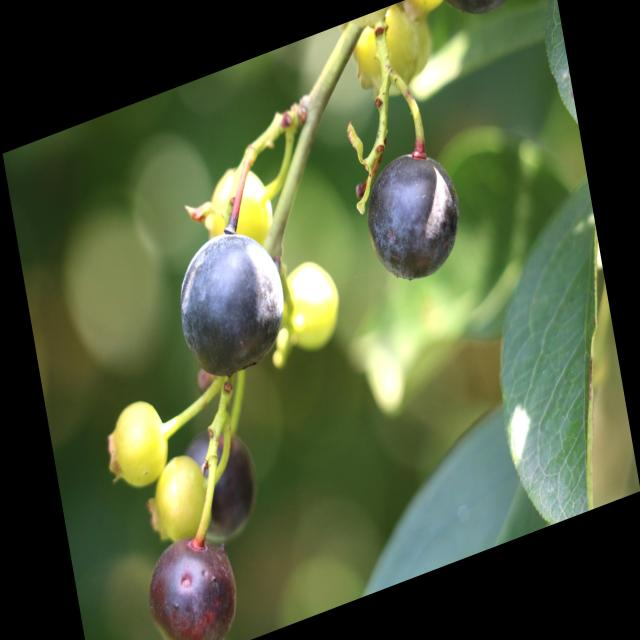blueberry: (167, 214, 295, 390), (357, 135, 469, 295), (169, 411, 267, 553), (140, 527, 247, 640)
blueberry-unripe: (196, 155, 275, 257), (346, 0, 423, 103), (278, 250, 348, 360), (103, 391, 173, 493), (149, 447, 214, 554)
